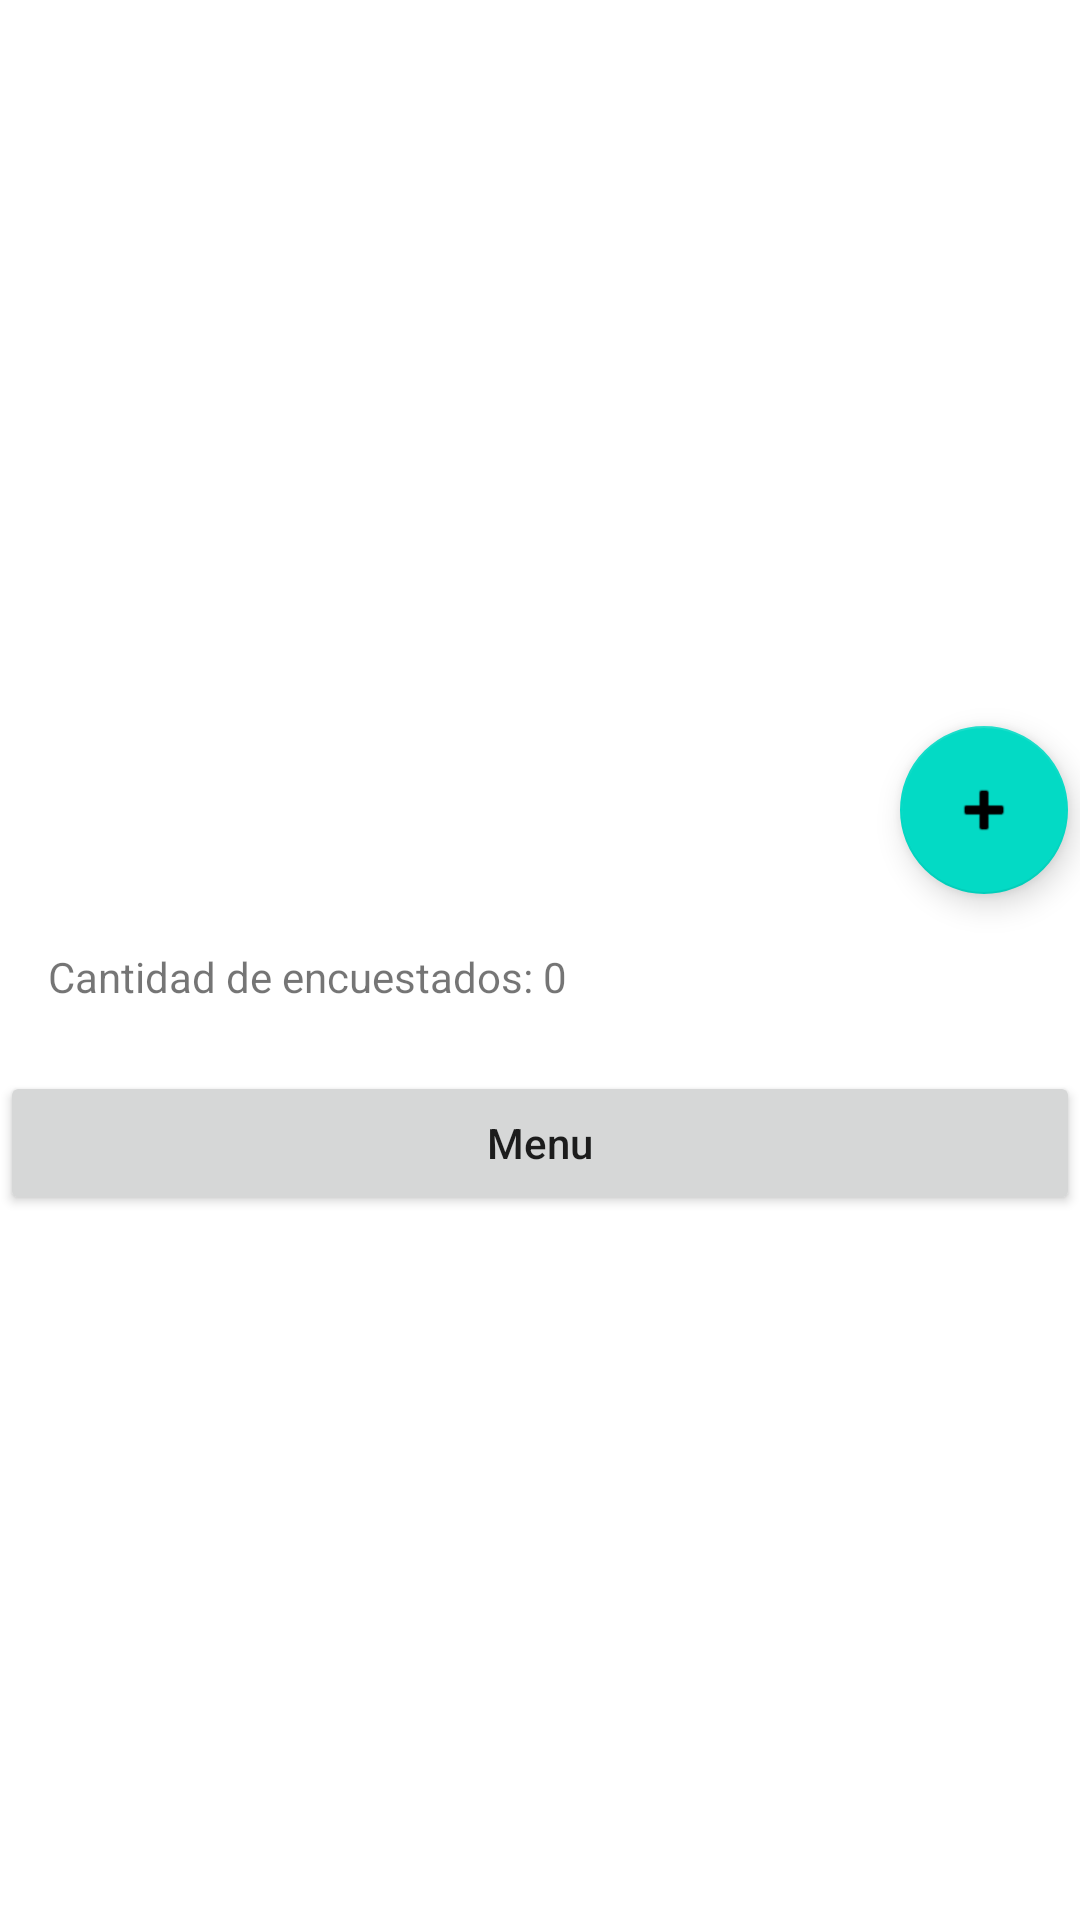

Icons on this 1080 × 1920 Android screen, each with the point to tap as [x,y]:
add: [984,810]
